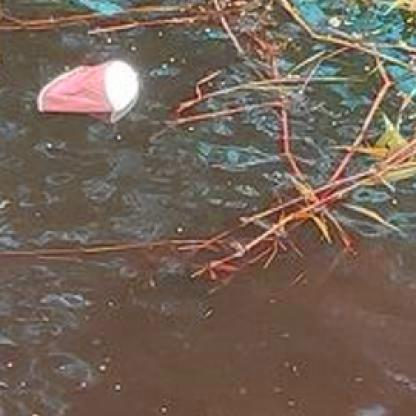Trash: (36, 60, 141, 122)
